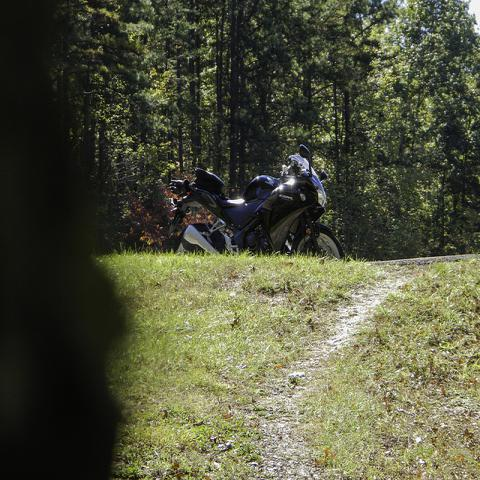motorcycle: (168, 144, 346, 260)
